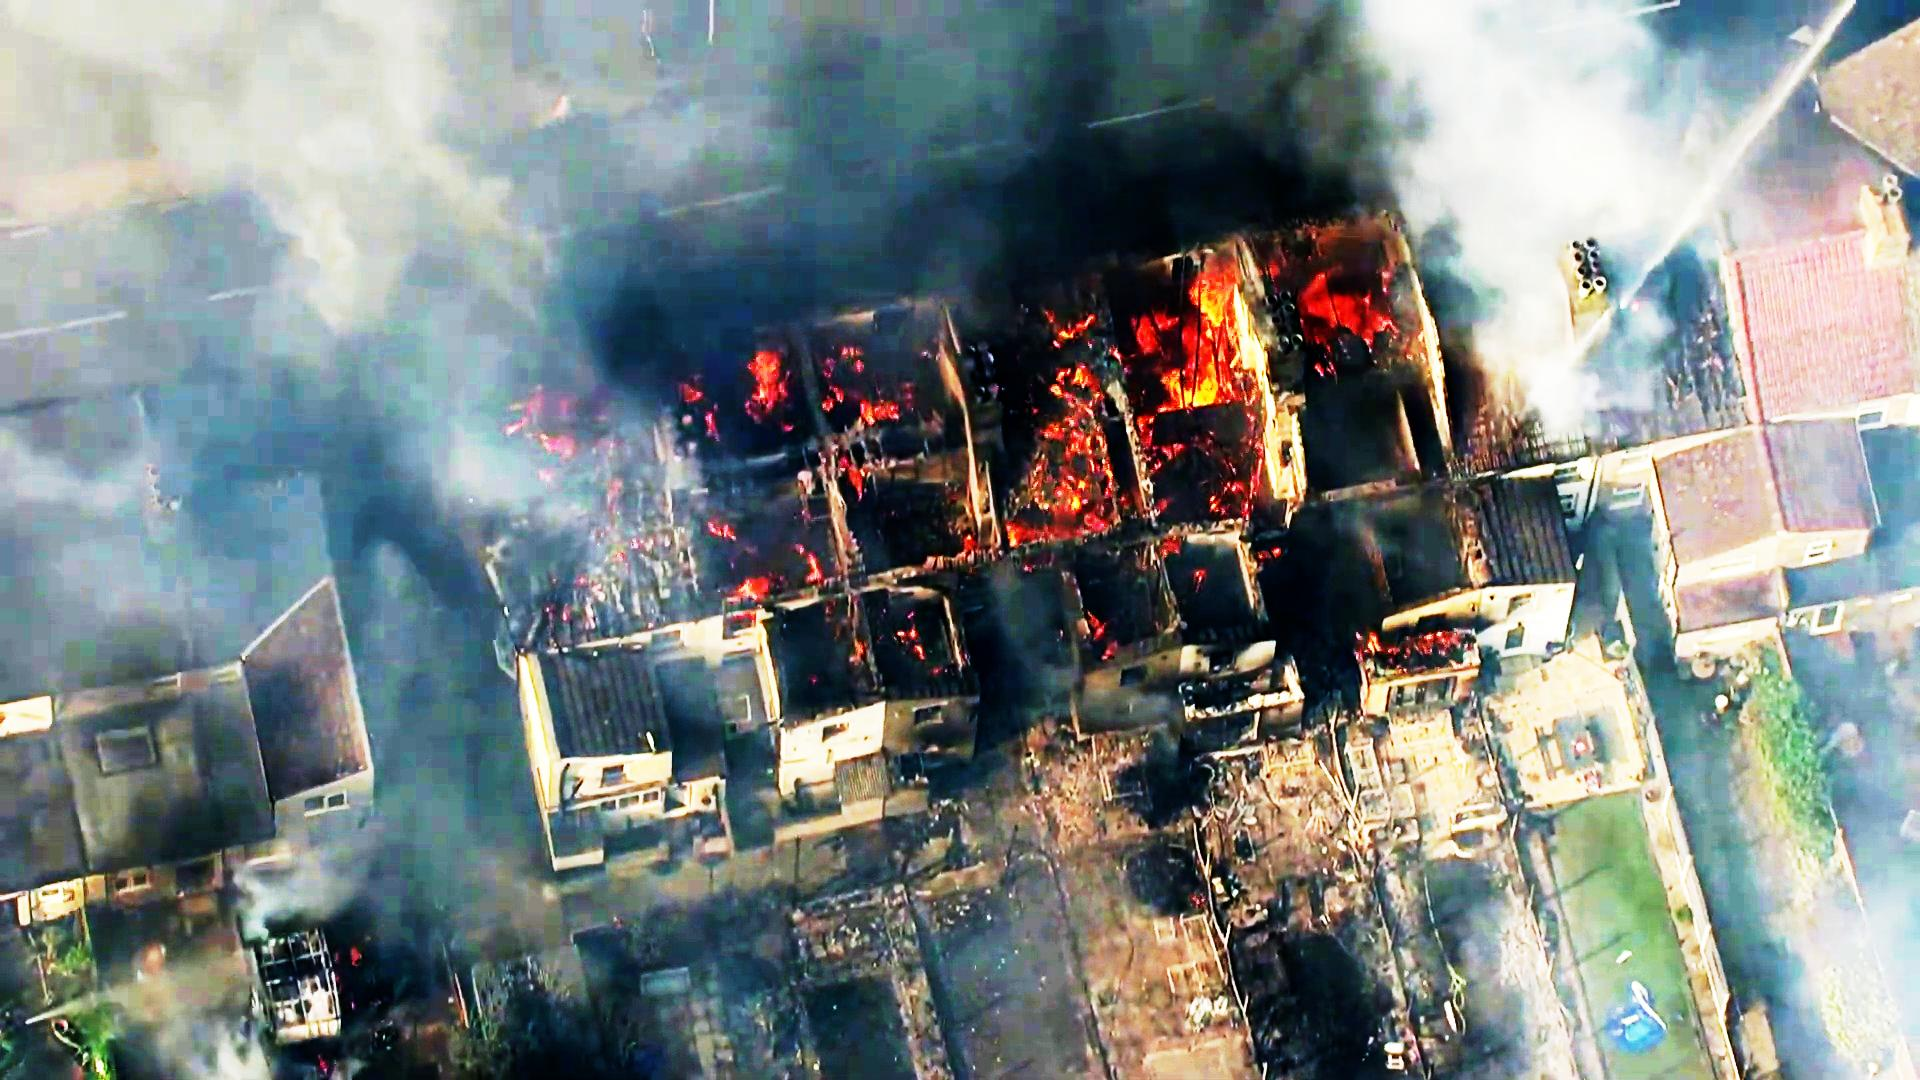fire: (1110, 281, 1250, 451)
smoke: (1377, 57, 1638, 225)
